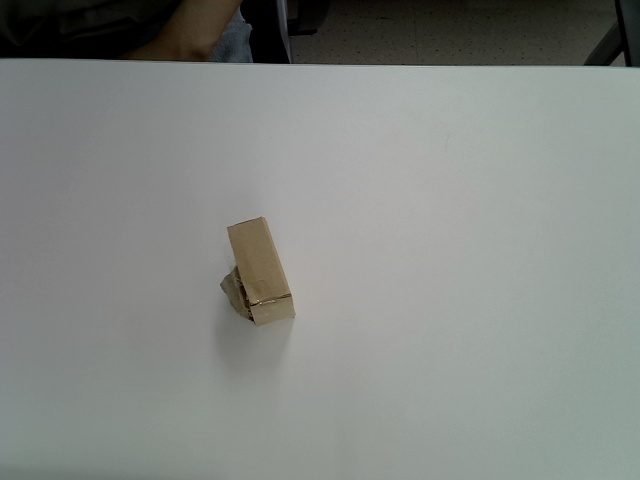defect: (220, 216, 297, 327)
